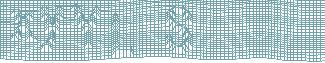L: (109, 12, 136, 59)
S: (163, 5, 195, 56)
Y: (69, 4, 103, 50)
x: (9, 7, 39, 43)
y: (38, 5, 65, 52)
